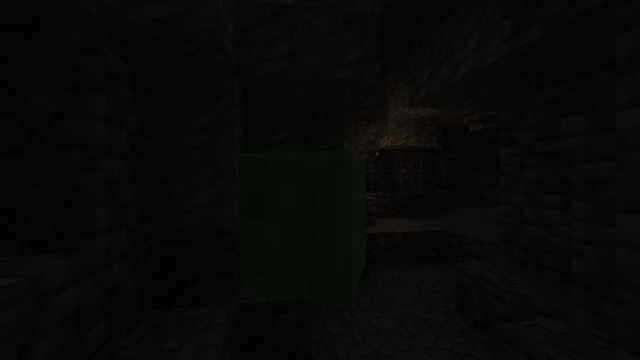slimes: (232, 144, 383, 305)
